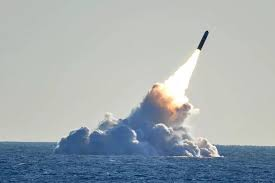ten_lua: (195, 28, 210, 56)
